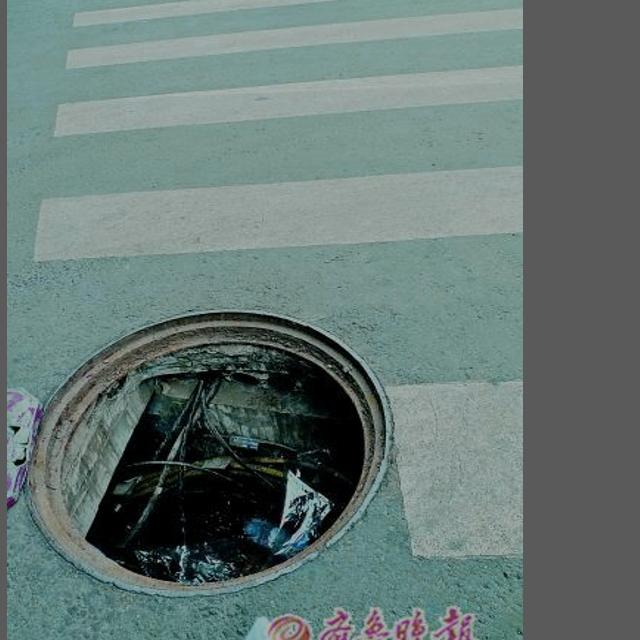lose: (31, 297, 399, 595)
